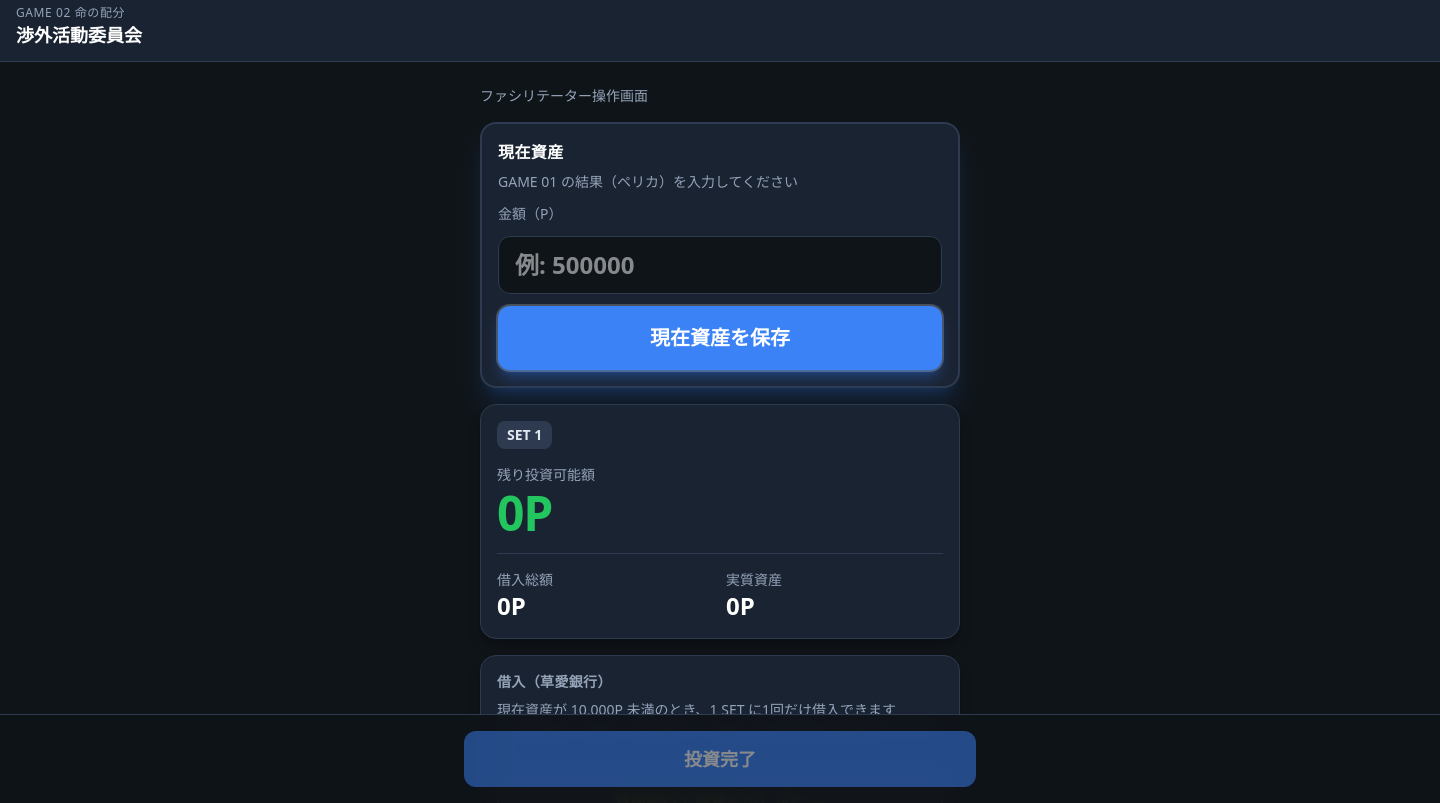
it: TeamEntryPage › adds investment and completes submission
Expected: the element with test id "current-asset-input" is shown, [480,122,960,388]
In the number field labelled "金額（P）": (720, 265) [498,236,942,294], type "500000"
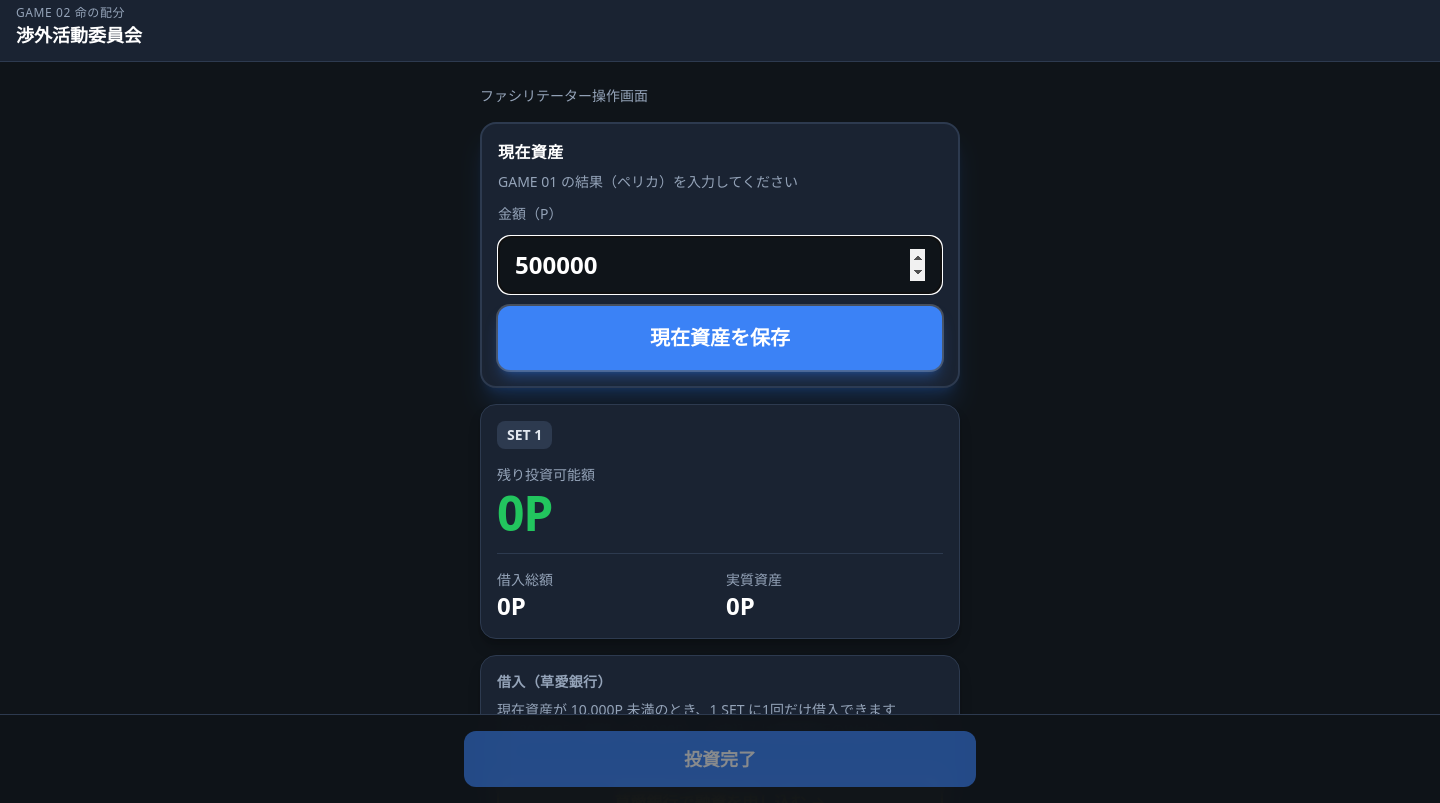
Click the button "現在資産を保存": (720, 338) [498,306,942,370]
(page scrolled)
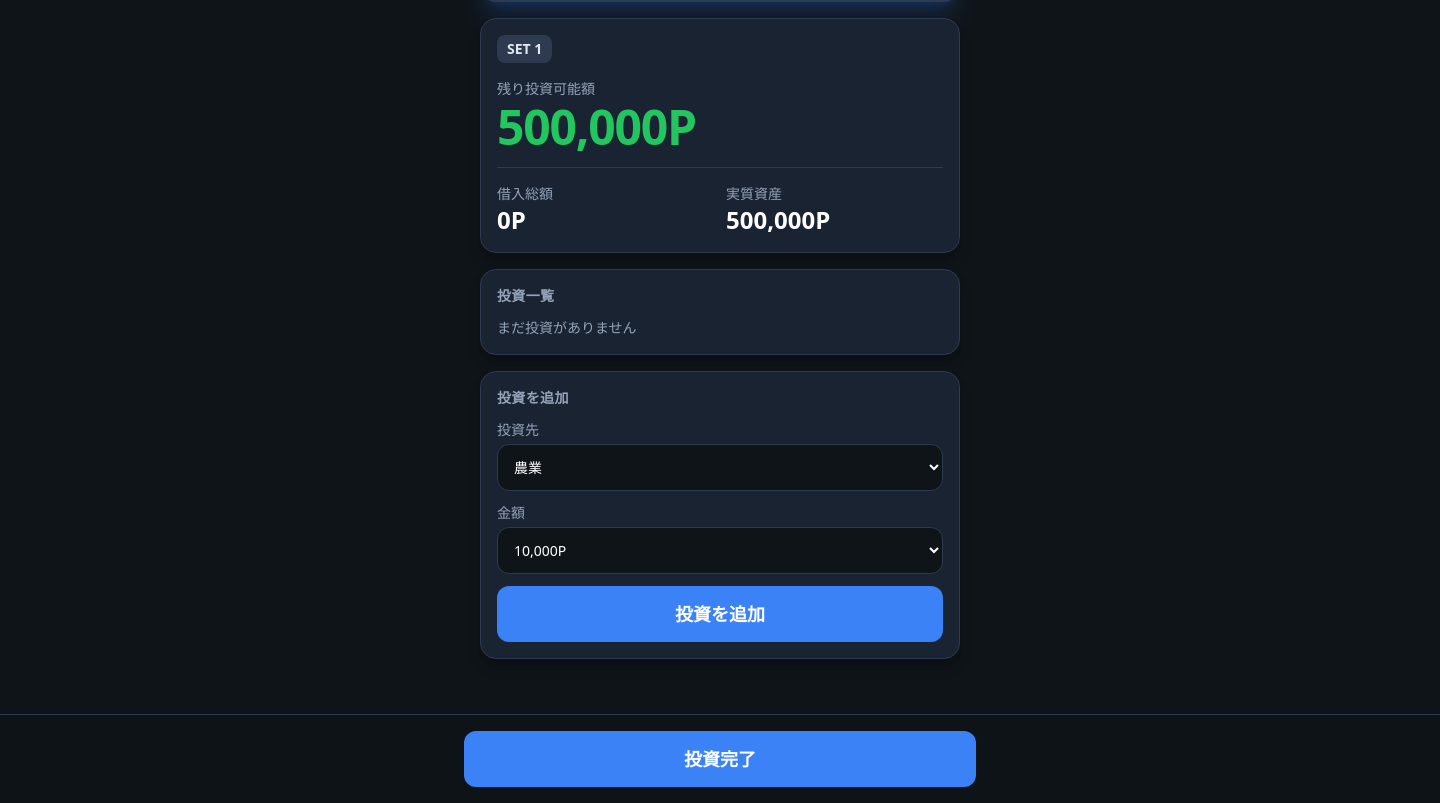
Result: the element with test id "add-investment-form" is shown at [480,371,960,659]
Click the button "投資を追加": (720, 614) [497,586,943,642]
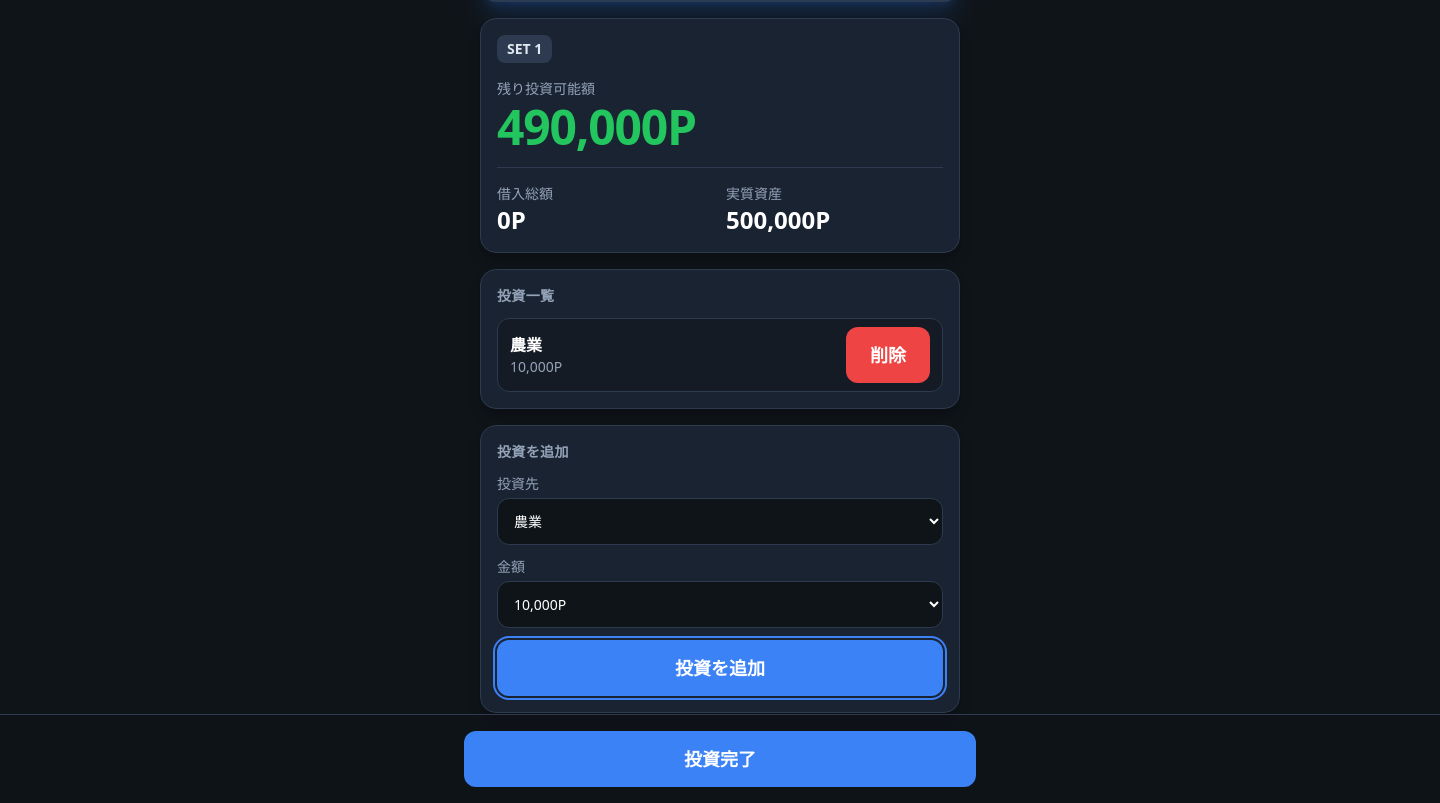
Result: the element with test id "investment-list" shows "農業" at [510,334,542,356]
Click the button "投資完了": (720, 759) [464,731,976,787]
(page scrolled)
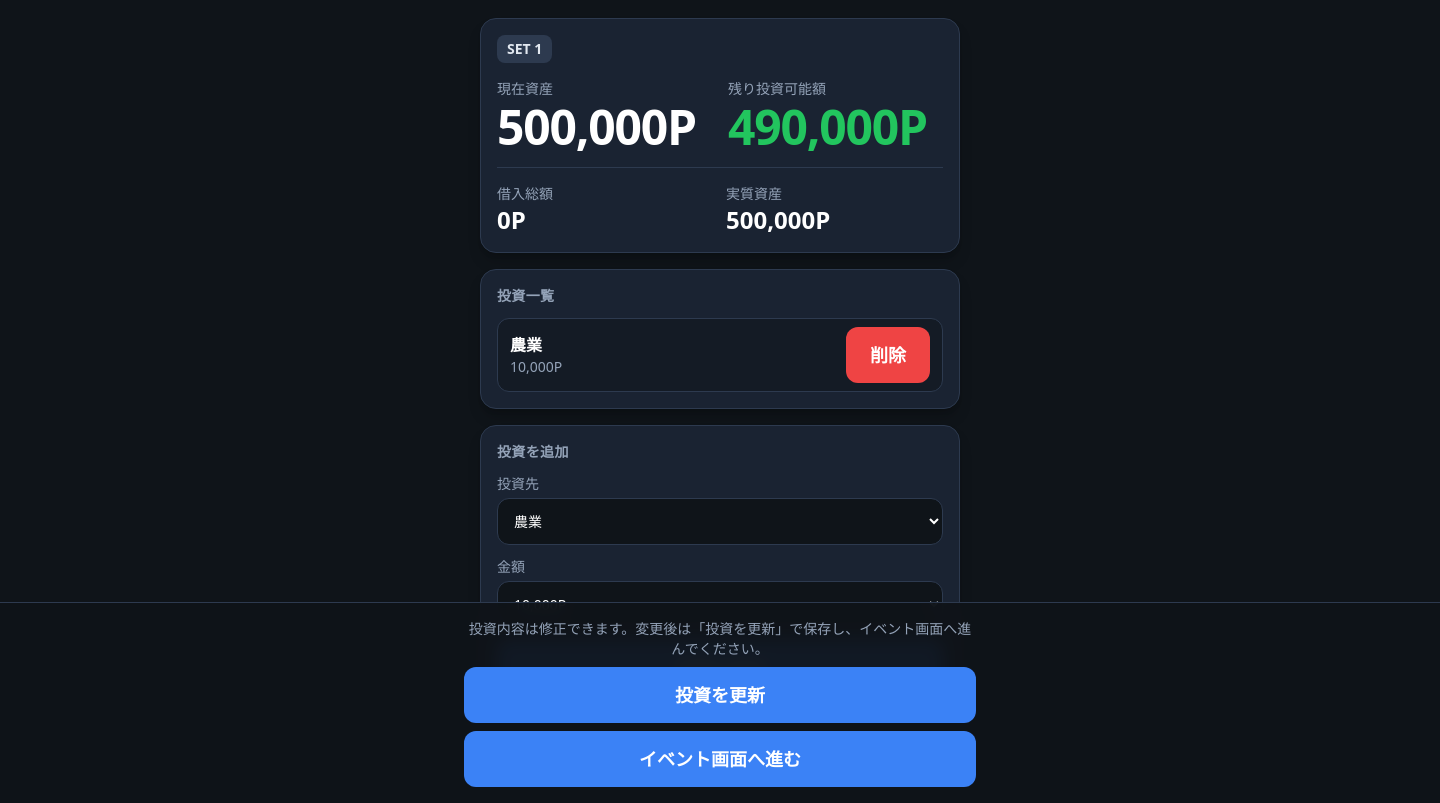
Result: the button "削除" is shown at [846,327,930,383]
Result: the button "イベント画面へ進む" is shown at [464,731,976,787]
Result: the button "投資を更新" is shown at [464,667,976,723]
